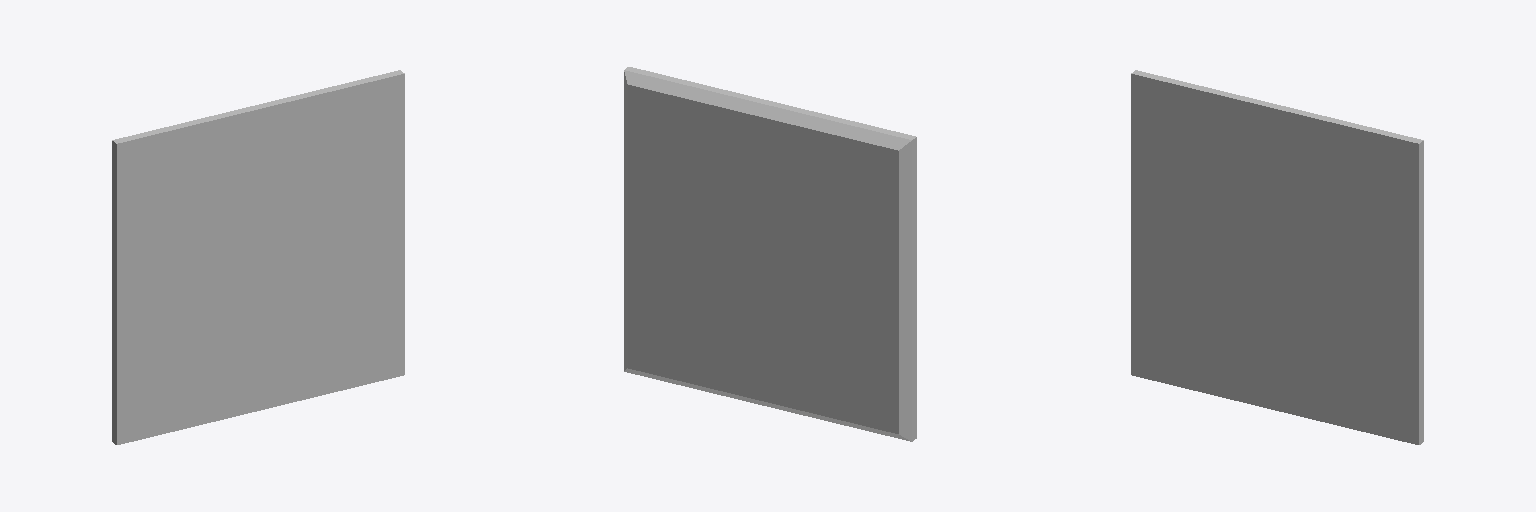
The model's file is TileSquare.obj.
The picture shows the model from 3 angles: view 1: azimuth 30°, elevation 25°; view 2: azimuth 150°, elevation 25°; view 3: azimuth 330°, elevation 25°; orthographic projection.
Visible parts, largest first — view 1: TileSquare; view 2: TileSquare; view 3: TileSquare.
Boxes of the visible parts, box(x1,y1,x2,y2) form: TileSquare: box(112, 70, 404, 444); TileSquare: box(624, 67, 916, 441); TileSquare: box(1131, 70, 1423, 444).
Bounding box in the file's own units: 1.7 × 1.7 × 0.1.